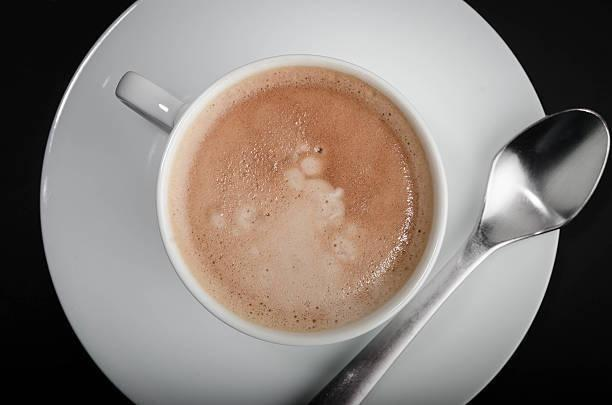cup-handle: (115, 52, 451, 350)
